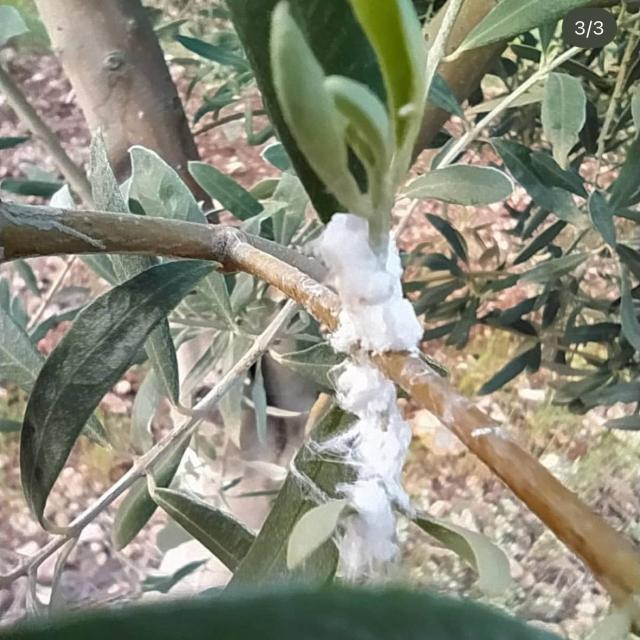Psyllid: (302, 359, 423, 581), (306, 214, 423, 354)
